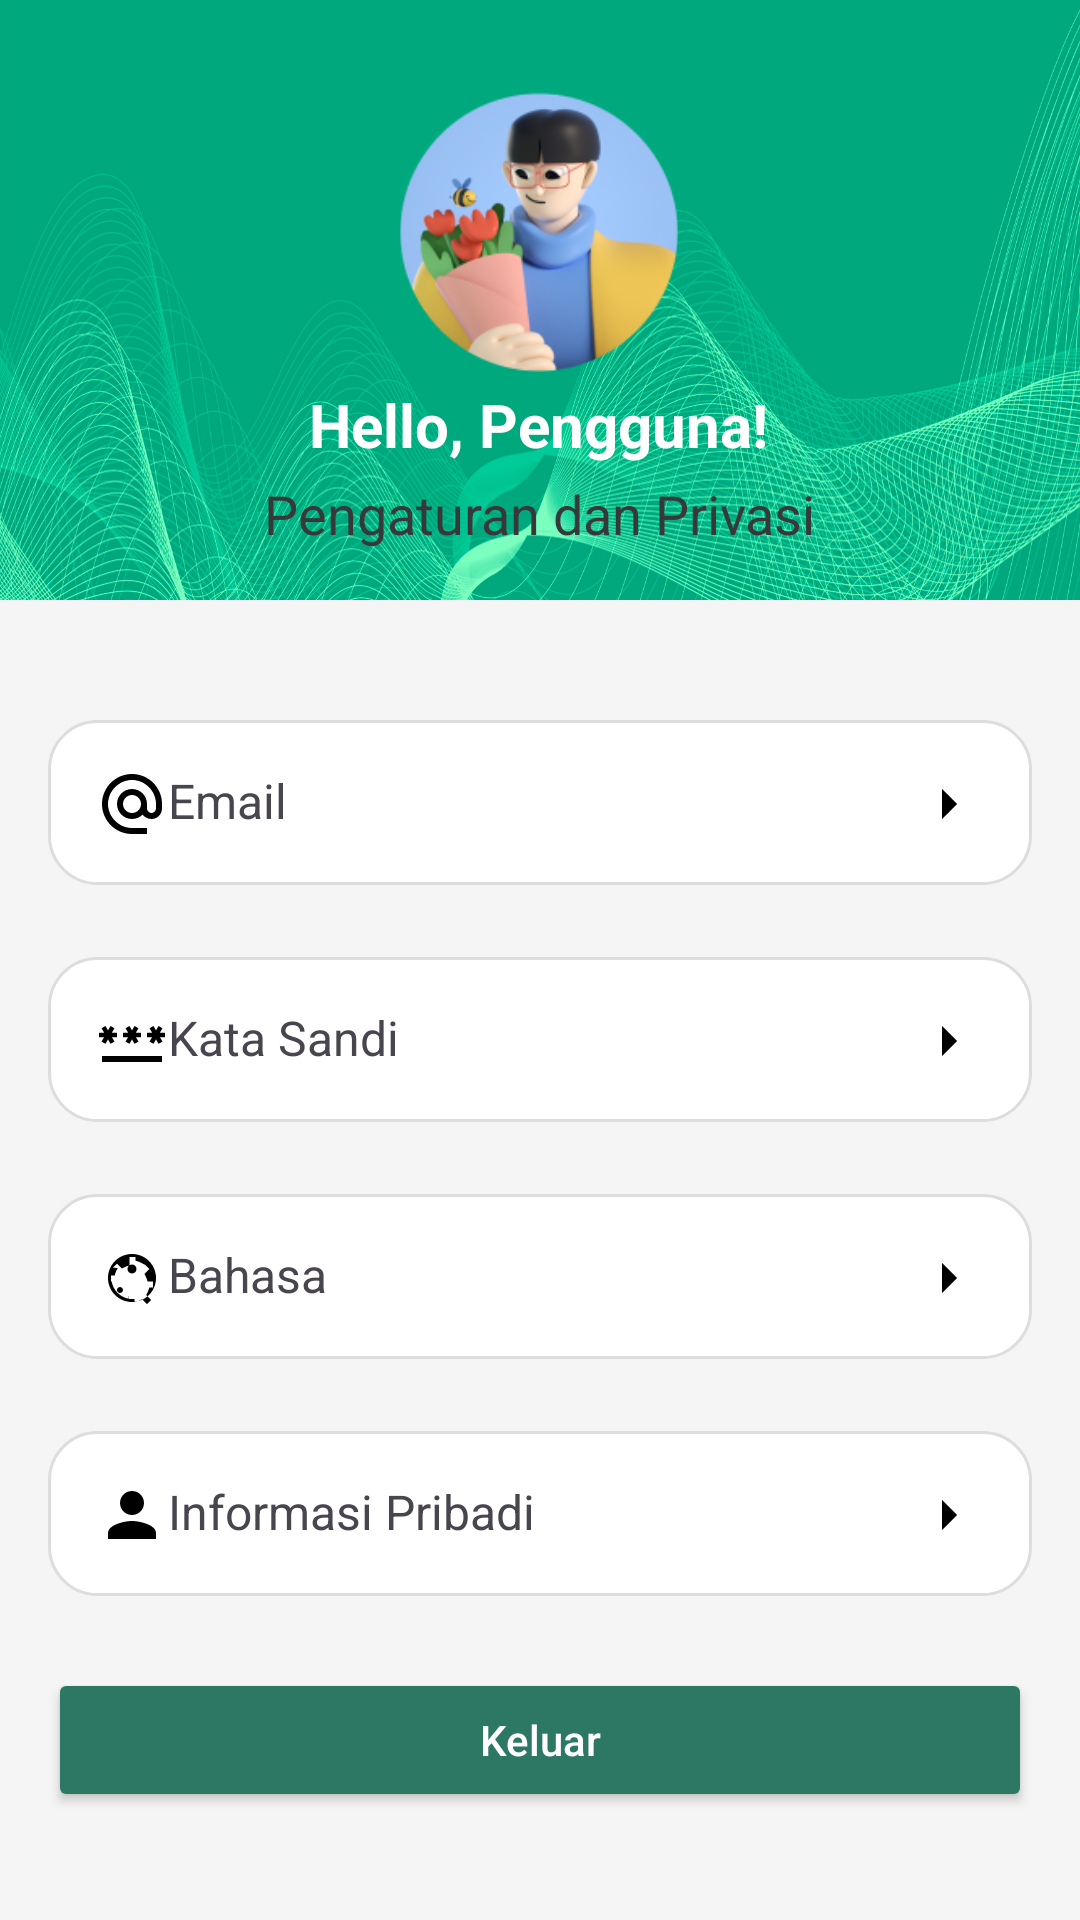

Locate icon controls on the screen. Image size 1080 × 1920, boxes as (x1, y1, x2, y2).
account: (108, 1491, 156, 1539)
arrow right: (942, 789, 957, 819), (942, 1026, 957, 1056), (942, 1263, 957, 1293), (942, 1500, 957, 1530)
